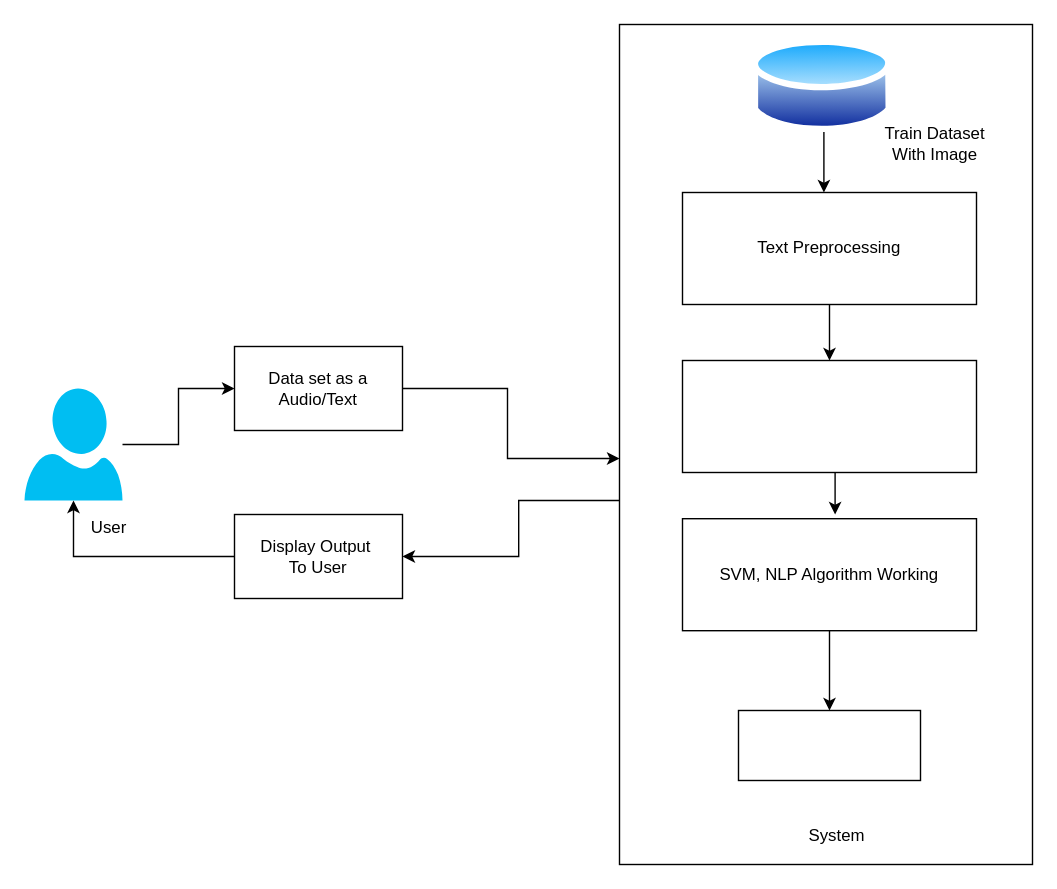
Some shapes in this 1057 by 889 pixel diagram are drawn without their labels. Each missing label, with the centre of its shape:
"Detect cyber bullying" goes at (x=828, y=744).
"Feature Extraction (Detection The parameter From dataset Uploaded For Testing)" goes at (x=828, y=415).
